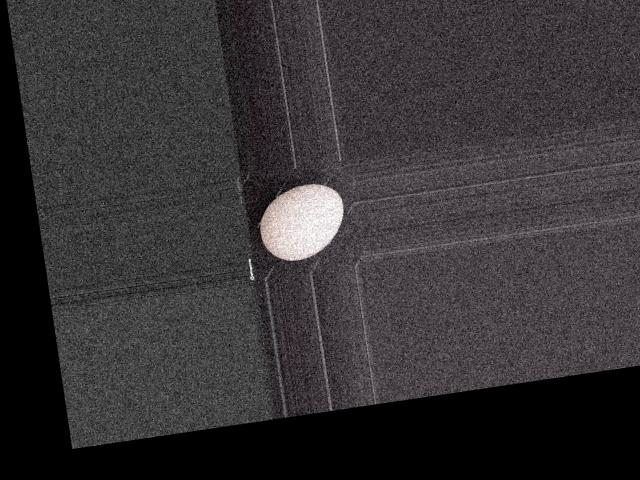egg: (254, 179, 349, 264)
